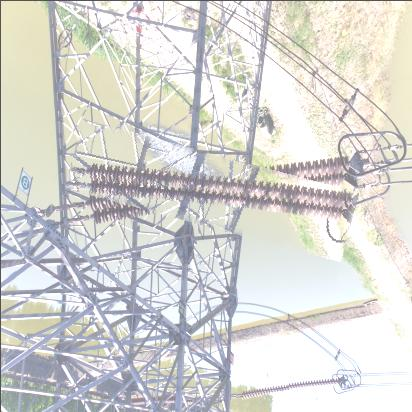insulator: (67, 136, 357, 244), (236, 377, 342, 403)
